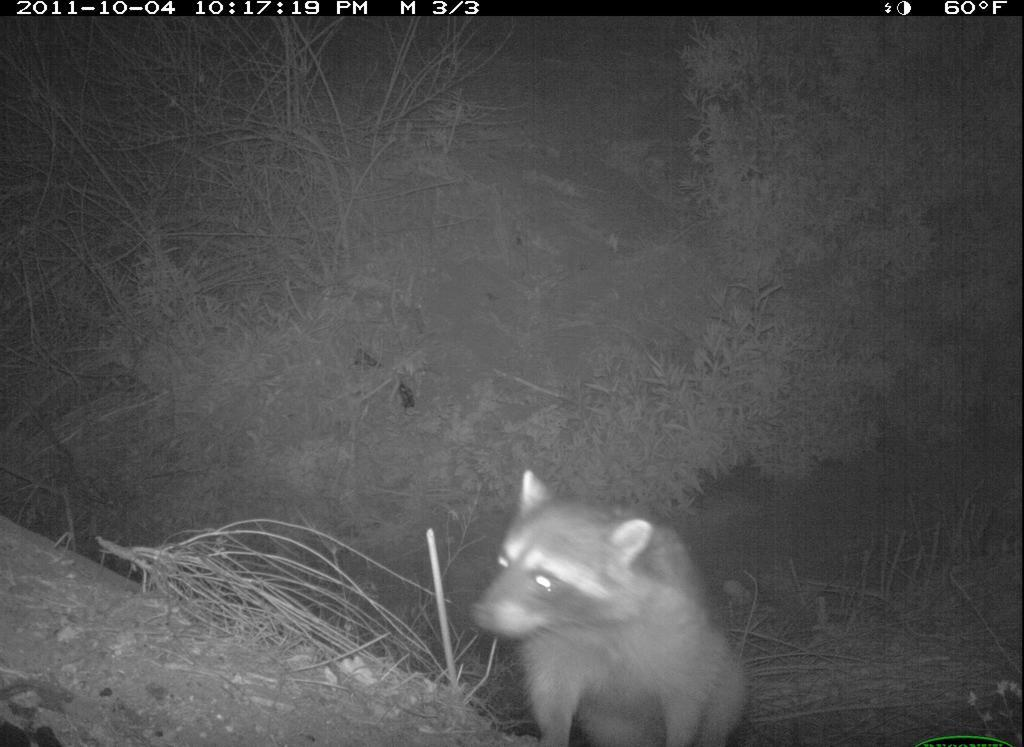raccoon: (464, 460, 766, 747)
